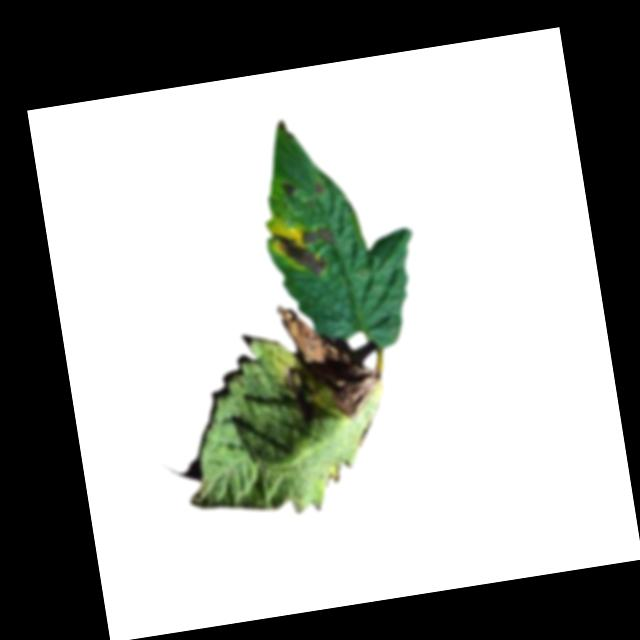Early_blight: (277, 290, 386, 430), (271, 224, 328, 283), (300, 224, 337, 248), (312, 176, 326, 194)
